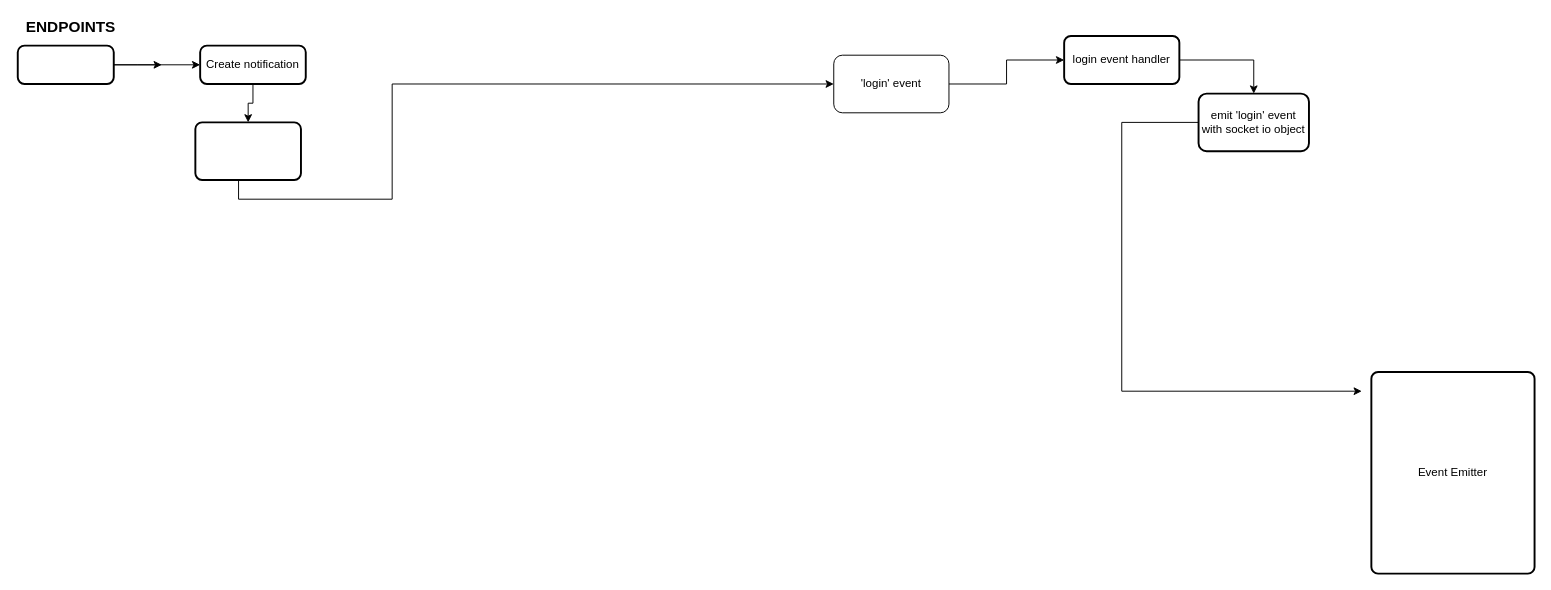
Image size: 1551x590. Some labels were removed from this diagram. The centre of each missing label's shape, as x and y in pixels:
emit 'login' event through the event emitter: the point at 247,150
Login endpoint: the point at 65,64
